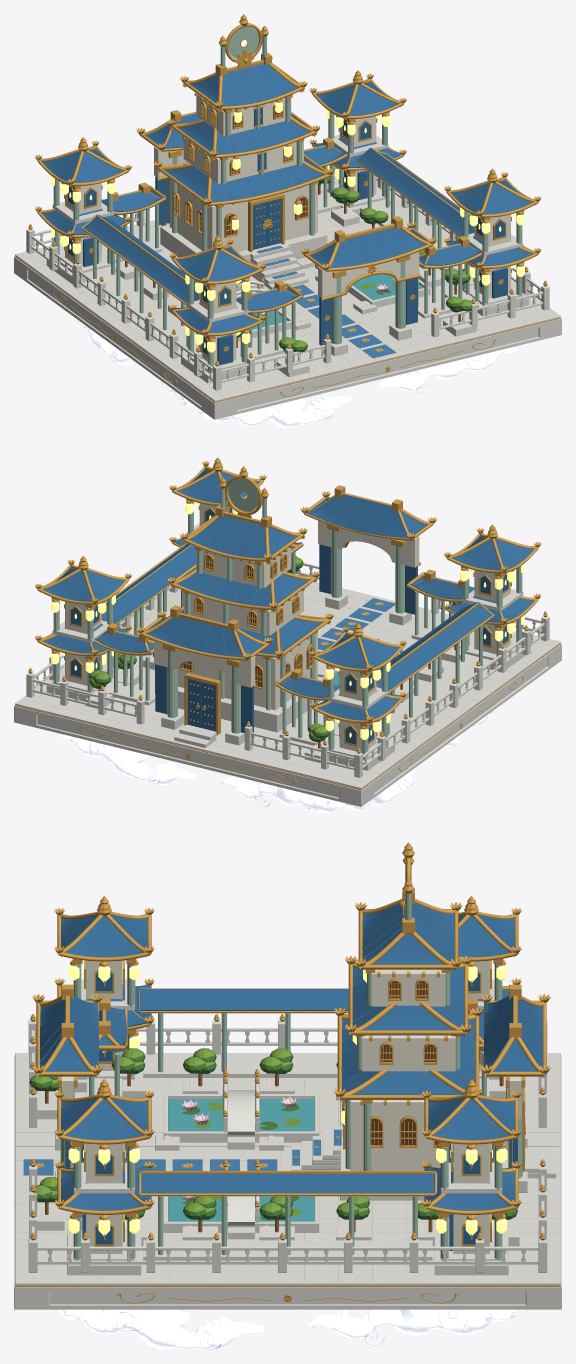
The model's file is city-6.glb.
3 views of the same model, one above another, from view 1: azimuth 30°, elevation 25°; view 2: azimuth 150°, elevation 25°; view 3: azimuth 270°, elevation 25° (orthographic). The views are drawn at different scales.
Parts seen in each view (by area): view 1: SM_CT6_V4_Batch_2.004, SM_CT6_V4_Batch_0.004, SM_CT6_V4_Batch_5.004, SM_CT6_V4_Batch_144.004, SM_CT6_V4_Batch_171.004, SM_CT6_V4_Batch_11.004, SM_CT6_V4_Batch_150.004, SM_CT6_V4_Batch_148.004, SM_CT6_V4_Batch_17.004, SM_CT6_V4_Batch_109.004, SM_CT6_V4_Batch_14.004, SM_CT6_V4_Batch_139.004 (+74 smaller); view 2: SM_CT6_V4_Batch_2.004, SM_CT6_V4_Batch_0.004, SM_CT6_V4_Batch_144.004, SM_CT6_V4_Batch_5.004, SM_CT6_V4_Batch_171.004, SM_CT6_V4_Batch_109.004, SM_CT6_V4_Batch_148.004, SM_CT6_V4_Batch_17.004, SM_CT6_V4_Batch_118.004, SM_CT6_V4_Batch_14.004, SM_CT6_V4_Batch_150.004, SM_CT6_V4_Batch_153.004 (+72 smaller); view 3: SM_CT6_V4_Batch_2.004, SM_CT6_V4_Batch_0.004, SM_CT6_V4_Batch_144.004, SM_CT6_V4_Batch_5.004, SM_CT6_V4_Batch_171.004, SM_CT6_V4_Batch_150.004, SM_CT6_V4_Batch_139.004, SM_CT6_V4_Batch_148.004, SM_CT6_V4_Batch_17.004, SM_CT6_V4_Batch_11.004, SM_CT6_V4_Batch_92.004, SM_CT6_V4_Batch_14.004 (+59 smaller).
Boxes of the visible parts, bbox=[...] form: SM_CT6_V4_Batch_2.004: bbox=[15, 176, 560, 401]; SM_CT6_V4_Batch_0.004: bbox=[14, 256, 561, 419]; SM_CT6_V4_Batch_5.004: bbox=[169, 95, 317, 251]; SM_CT6_V4_Batch_144.004: bbox=[26, 167, 549, 390]; SM_CT6_V4_Batch_171.004: bbox=[72, 316, 518, 428]; SM_CT6_V4_Batch_11.004: bbox=[164, 157, 324, 206]; SM_CT6_V4_Batch_150.004: bbox=[356, 147, 474, 236]; SM_CT6_V4_Batch_148.004: bbox=[83, 214, 199, 303]; SM_CT6_V4_Batch_17.004: bbox=[190, 63, 298, 109]; SM_CT6_V4_Batch_109.004: bbox=[308, 227, 426, 271]; SM_CT6_V4_Batch_14.004: bbox=[178, 115, 310, 157]; SM_CT6_V4_Batch_139.004: bbox=[102, 188, 476, 377]; SM_CT6_V4_Batch_2.004: bbox=[15, 581, 560, 788]; SM_CT6_V4_Batch_0.004: bbox=[14, 644, 561, 806]; SM_CT6_V4_Batch_144.004: bbox=[26, 562, 549, 777]; SM_CT6_V4_Batch_5.004: bbox=[178, 547, 317, 710]; SM_CT6_V4_Batch_171.004: bbox=[58, 701, 505, 813]; SM_CT6_V4_Batch_109.004: bbox=[306, 494, 427, 540]; SM_CT6_V4_Batch_148.004: bbox=[376, 602, 492, 690]; SM_CT6_V4_Batch_17.004: bbox=[189, 515, 297, 561]; SM_CT6_V4_Batch_118.004: bbox=[146, 616, 264, 660]; SM_CT6_V4_Batch_14.004: bbox=[176, 567, 309, 609]; SM_CT6_V4_Batch_150.004: bbox=[101, 543, 196, 623]; SM_CT6_V4_Batch_153.004: bbox=[180, 553, 313, 689]; SM_CT6_V4_Batch_2.004: bbox=[15, 1053, 560, 1285]; SM_CT6_V4_Batch_0.004: bbox=[14, 1056, 561, 1309]; SM_CT6_V4_Batch_144.004: bbox=[28, 1020, 547, 1272]; SM_CT6_V4_Batch_5.004: bbox=[350, 969, 455, 1170]; SM_CT6_V4_Batch_171.004: bbox=[45, 1309, 523, 1349]; SM_CT6_V4_Batch_150.004: bbox=[141, 1174, 434, 1193]; SM_CT6_V4_Batch_139.004: bbox=[37, 1080, 519, 1246]; SM_CT6_V4_Batch_148.004: bbox=[140, 989, 348, 1010]; SM_CT6_V4_Batch_17.004: bbox=[362, 902, 454, 969]; SM_CT6_V4_Batch_11.004: bbox=[340, 1018, 475, 1099]; SM_CT6_V4_Batch_92.004: bbox=[143, 1240, 432, 1260]; SM_CT6_V4_Batch_14.004: bbox=[352, 967, 464, 1035].
Bounding box in the file's own units: 10 × 8.35 × 10.
Materials: 19 (5 with a texture image).
